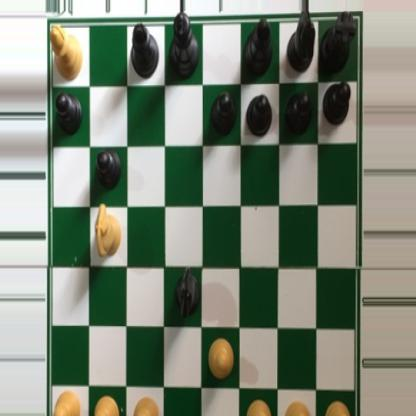black-bishop: (242, 13, 271, 75), (130, 16, 160, 74)
black-king: (167, 11, 198, 79)
black-knight: (288, 11, 316, 74), (174, 260, 199, 319)
black-pawn: (53, 91, 82, 137), (207, 90, 236, 136), (322, 81, 351, 127), (285, 90, 312, 136), (93, 148, 121, 192), (245, 94, 273, 137)
black-rook: (318, 11, 355, 74)
white-bishop: (48, 23, 85, 83)
white-knight: (92, 201, 122, 260)
white-pawn: (207, 338, 235, 381), (52, 390, 82, 416), (92, 393, 121, 416), (131, 394, 161, 416), (243, 395, 272, 416), (323, 399, 353, 416), (283, 401, 311, 416)
